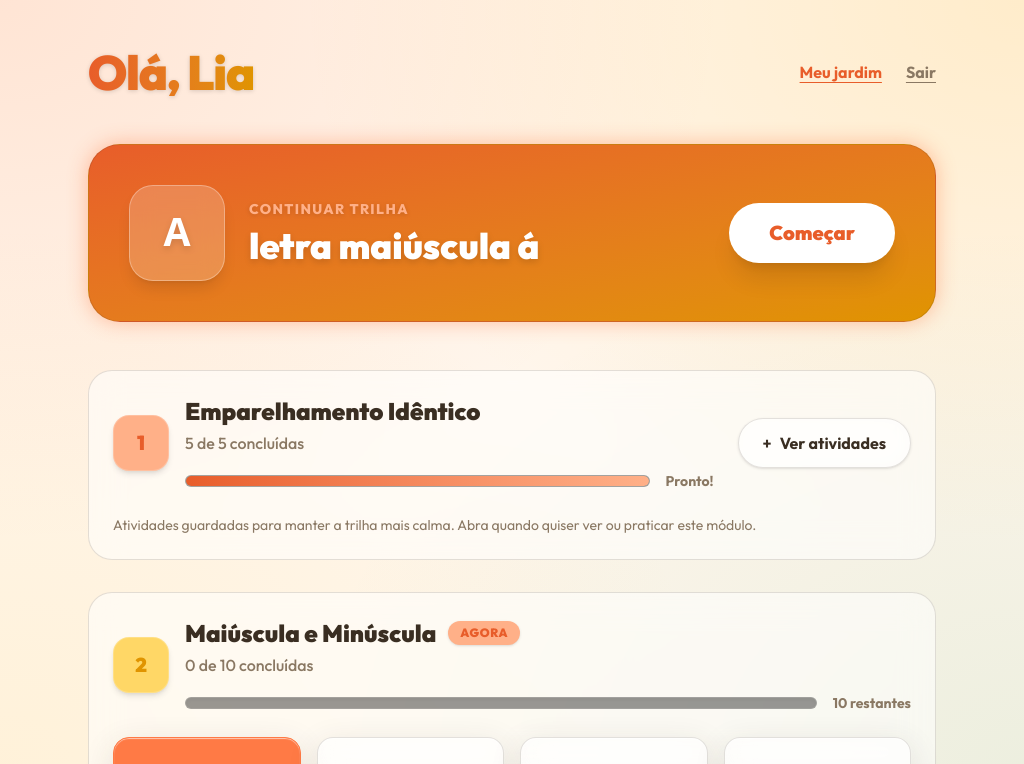
Test: Trilha › mantem somente o modulo em foco aberto e abre revisoes sob demanda
Check: the link named "Continuar com letra maiúscula á" is shown, box 729,203 -> 895,263
Click the button "+ Ver atividades". click: (824, 443)
box: 738,418 -> 911,468
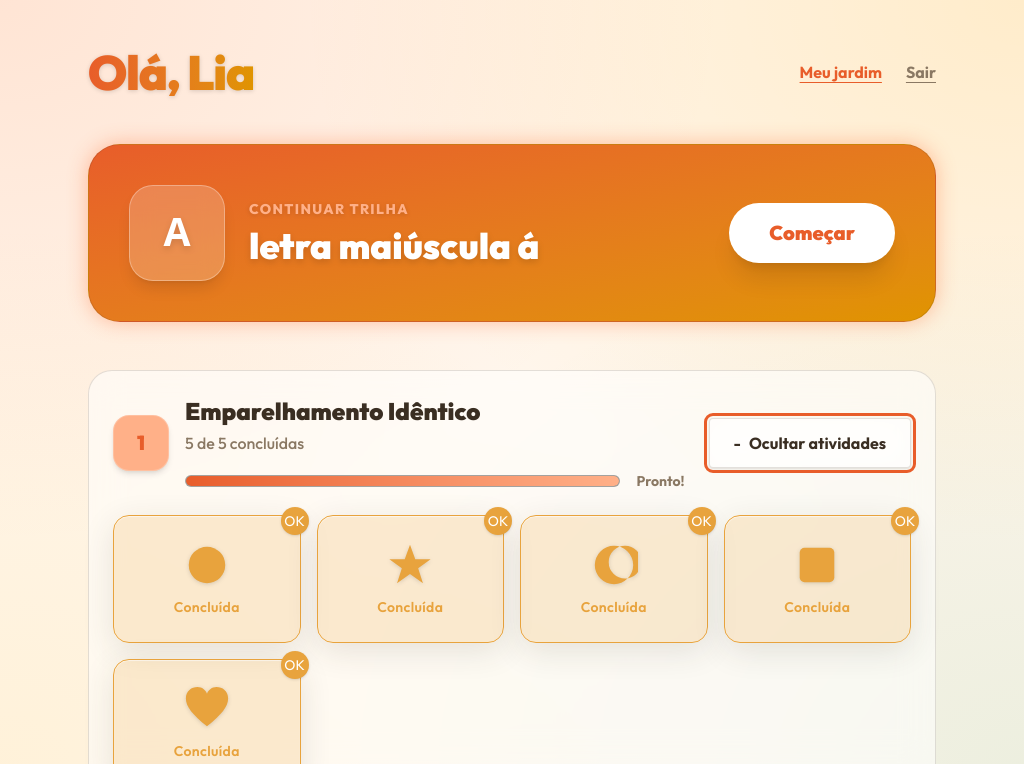
Check: the button named "Ver atividades" is expanded, box 709,418 -> 911,468
Check: the link named "círculo concluída" is shown, box 113,515 -> 300,643
